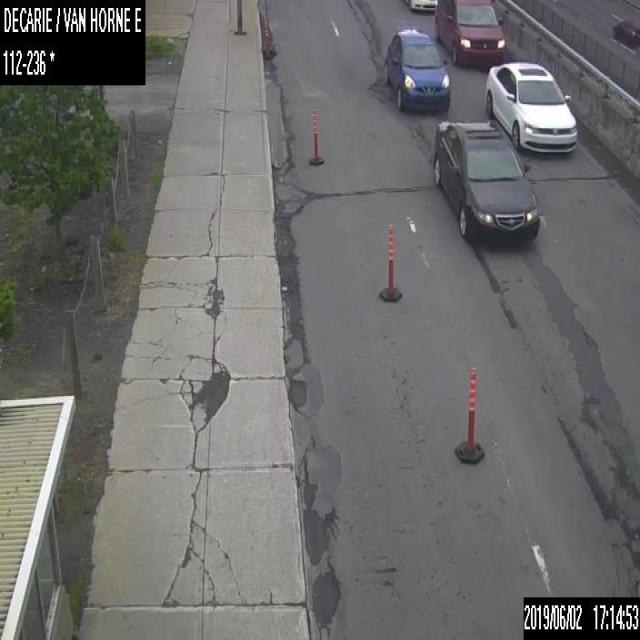construction: (454, 366, 482, 462), (379, 221, 401, 300), (308, 107, 323, 164), (262, 20, 272, 59)
vehicle: (432, 116, 538, 241), (485, 61, 577, 153), (383, 25, 450, 112), (435, 0, 504, 69), (611, 18, 639, 46), (401, 0, 437, 12)
